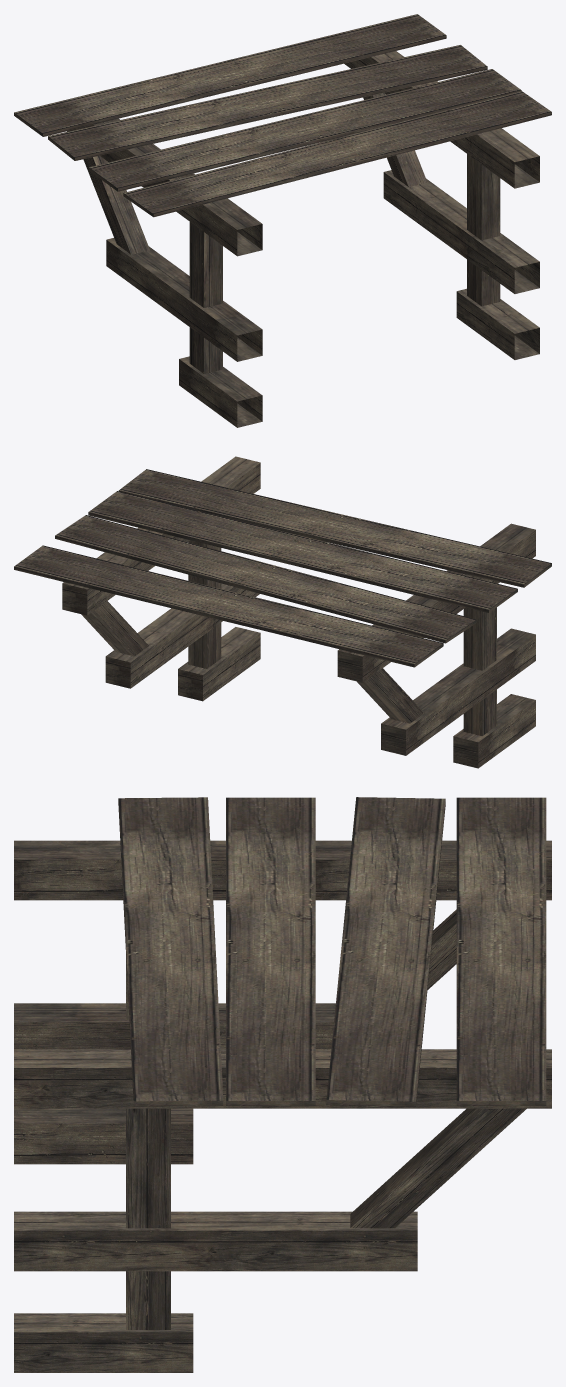
Rendered from well_scaffold_02.FBX.
3 renders of one model, top to bottom at view 1: azimuth 30°, elevation 25°; view 2: azimuth 150°, elevation 25°; view 3: azimuth 270°, elevation 25°, orthographic. The views are drawn at different scales.
Parts seen in each view (by area): view 1: Box08; view 2: Box08; view 3: Box08.
Part boxes in pixels (left/top/right/bottom): Box08: left=14, top=14, right=551, bottom=427; Box08: left=14, top=456, right=551, bottom=768; Box08: left=14, top=797, right=551, bottom=1372.
Bounding box in the file's own units: 257 × 192 × 122.
